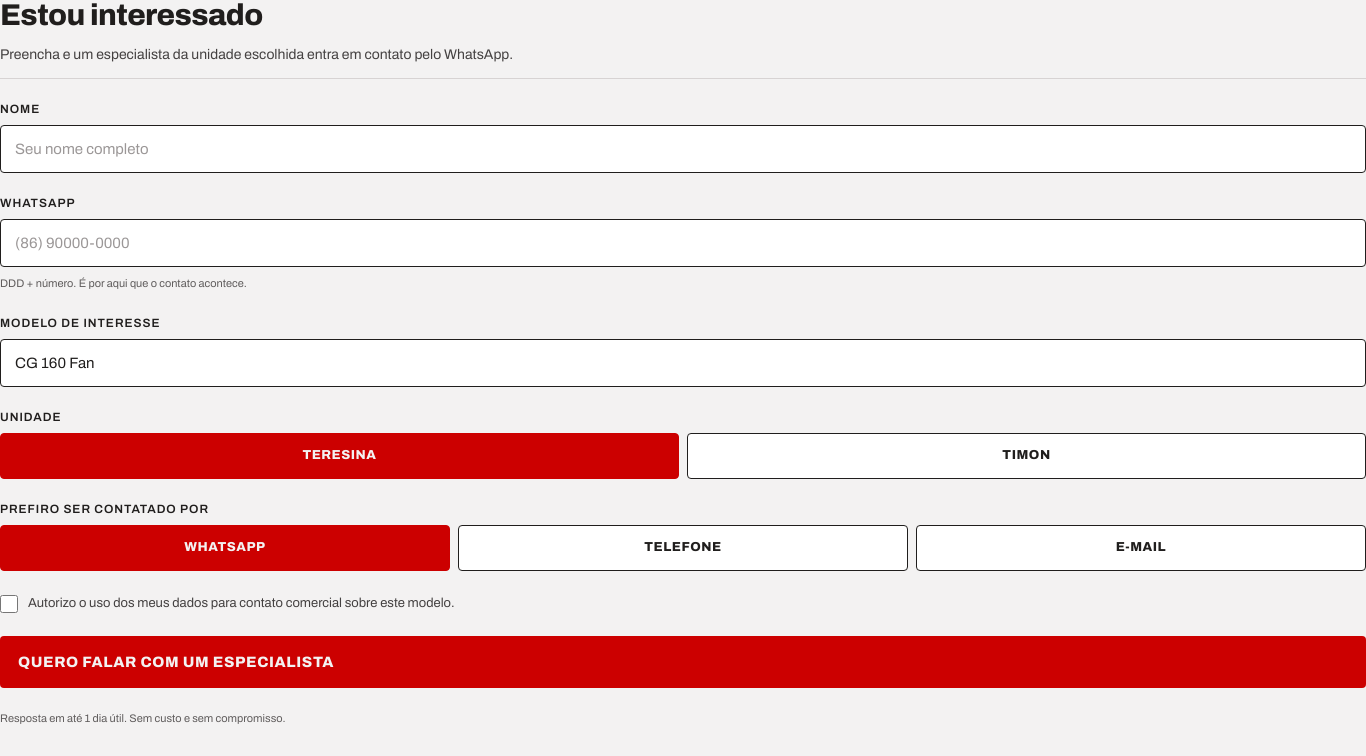
Test: validação no cliente › exige o consentimento LGPD
The width and height of the screenshot is (1366, 756).
Step 1. Type "Ricardo Menezes" into the field labelled "Nome" → (683, 149), box x1=0 y1=125 x2=1365 y2=173
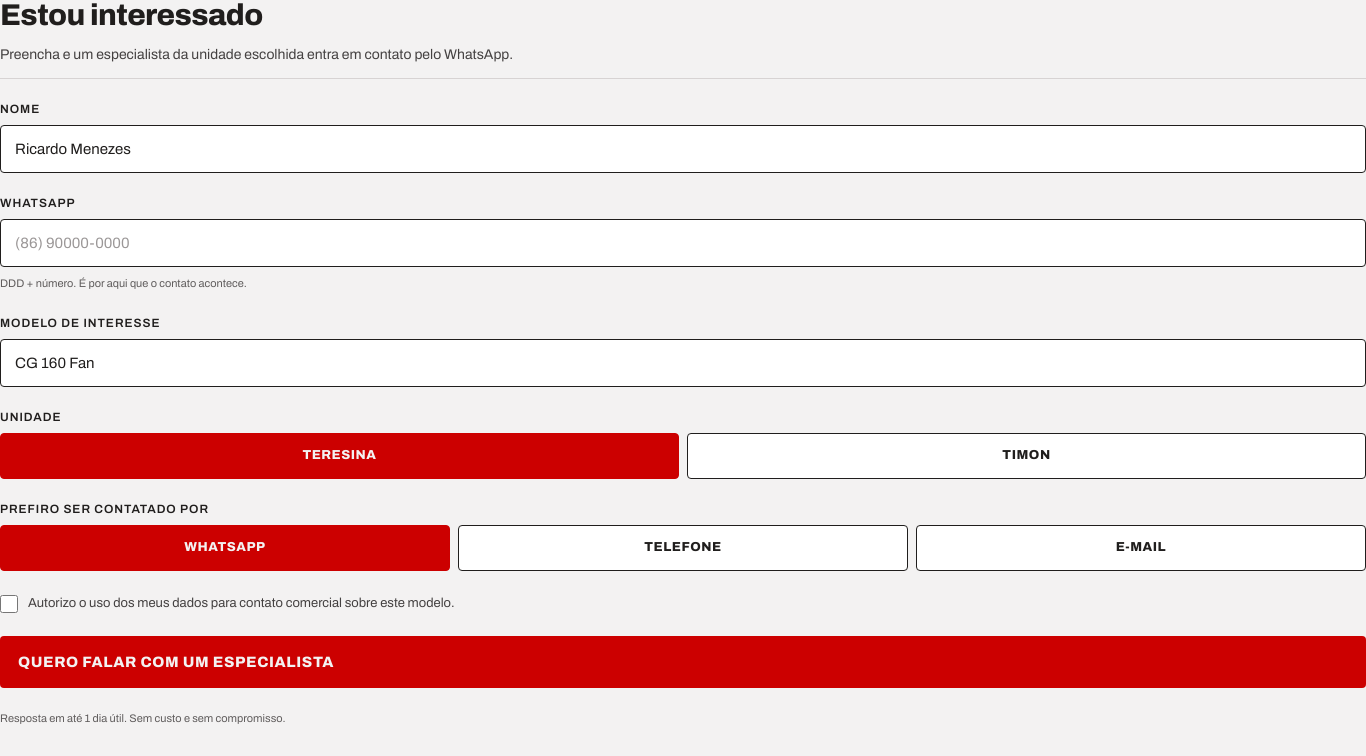
Step 2. Type "86998124471" into the field labelled "WhatsApp" → (683, 243), box x1=0 y1=219 x2=1365 y2=267
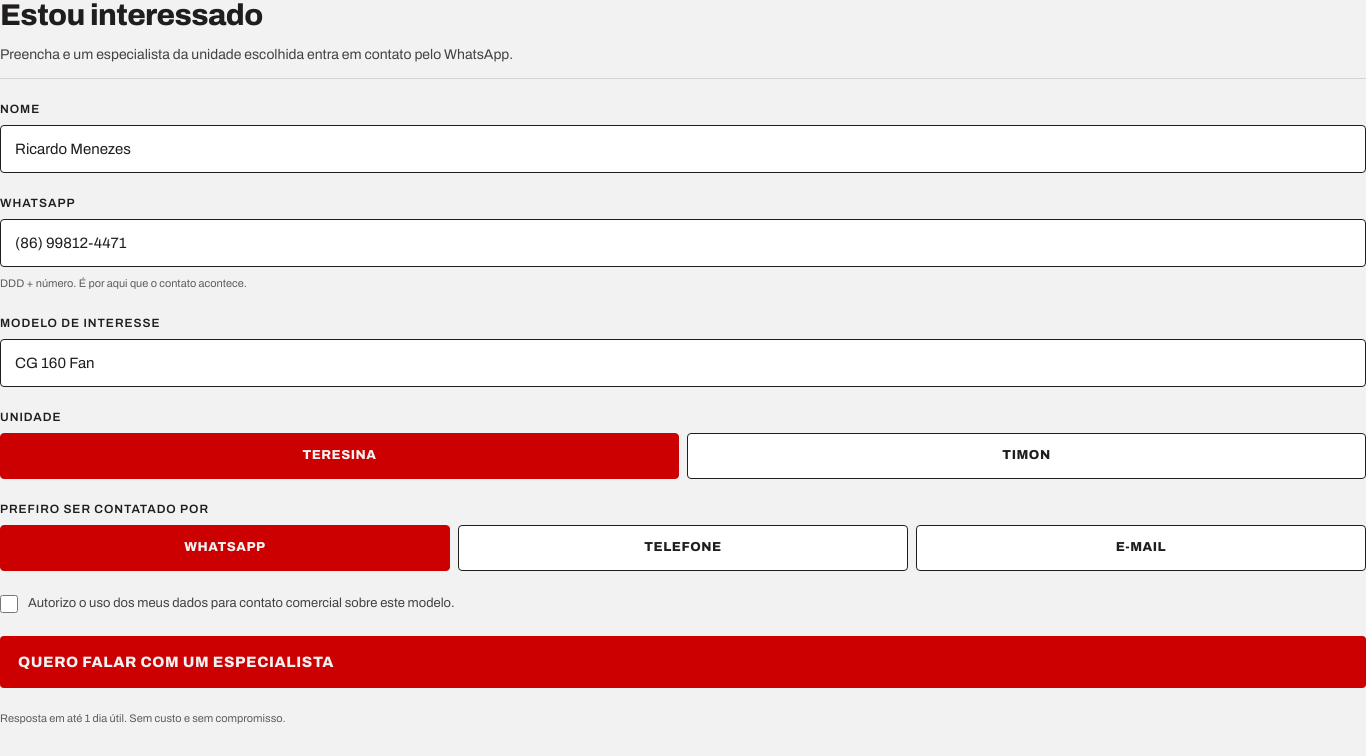
Step 3. Click the button "Quero falar com um especialista" → (176, 662), box x1=0 y1=636 x2=1365 y2=688
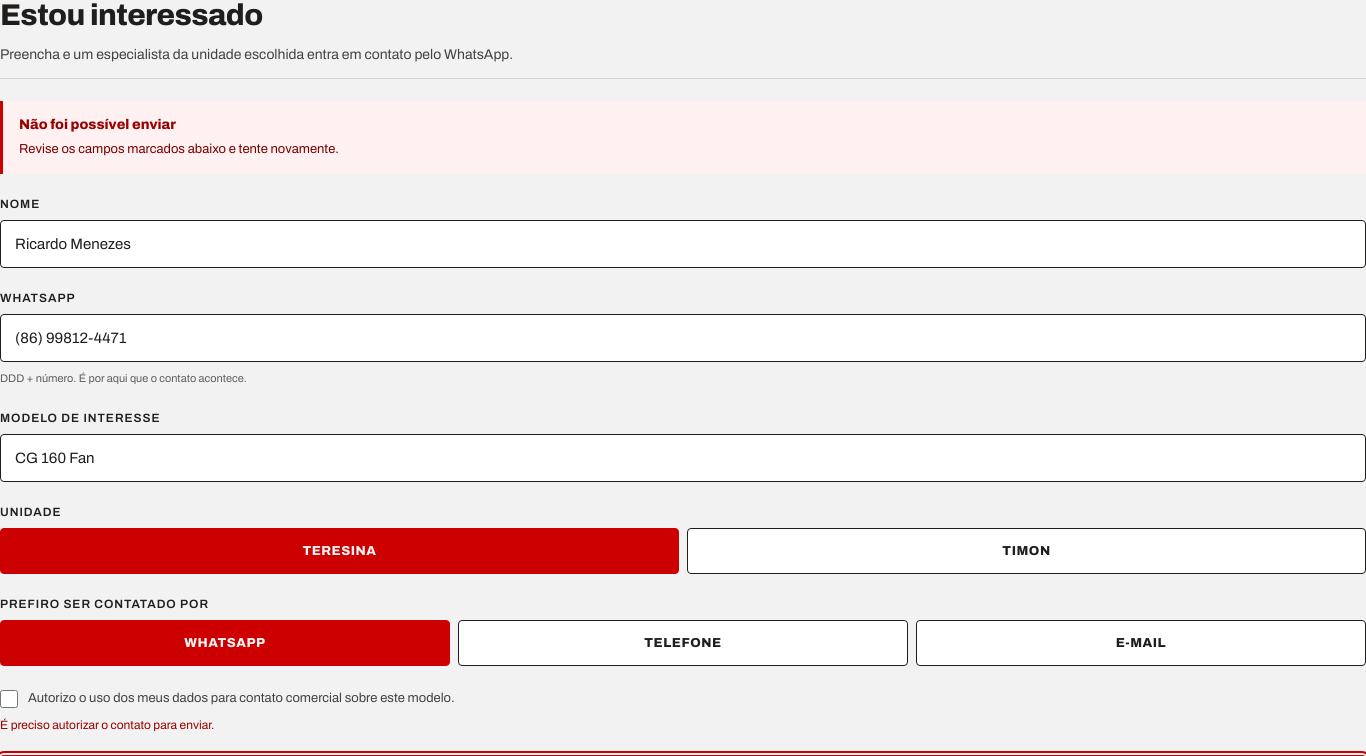
Result: the text "É preciso autorizar o contato para enviar." is shown at x1=0 y1=718 x2=214 y2=732
